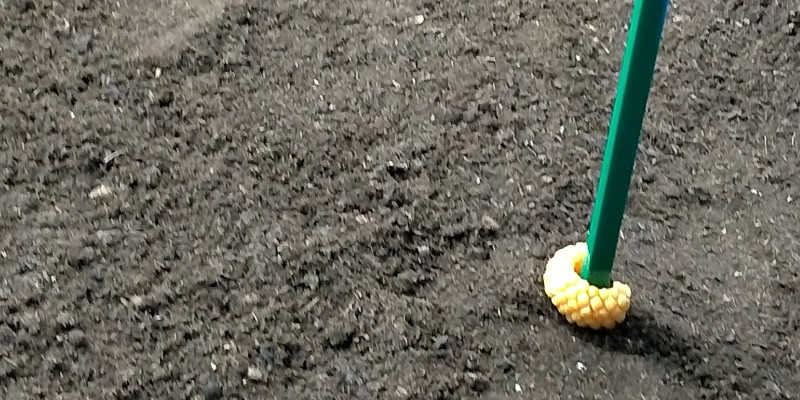eggs: (539, 238, 640, 332)
